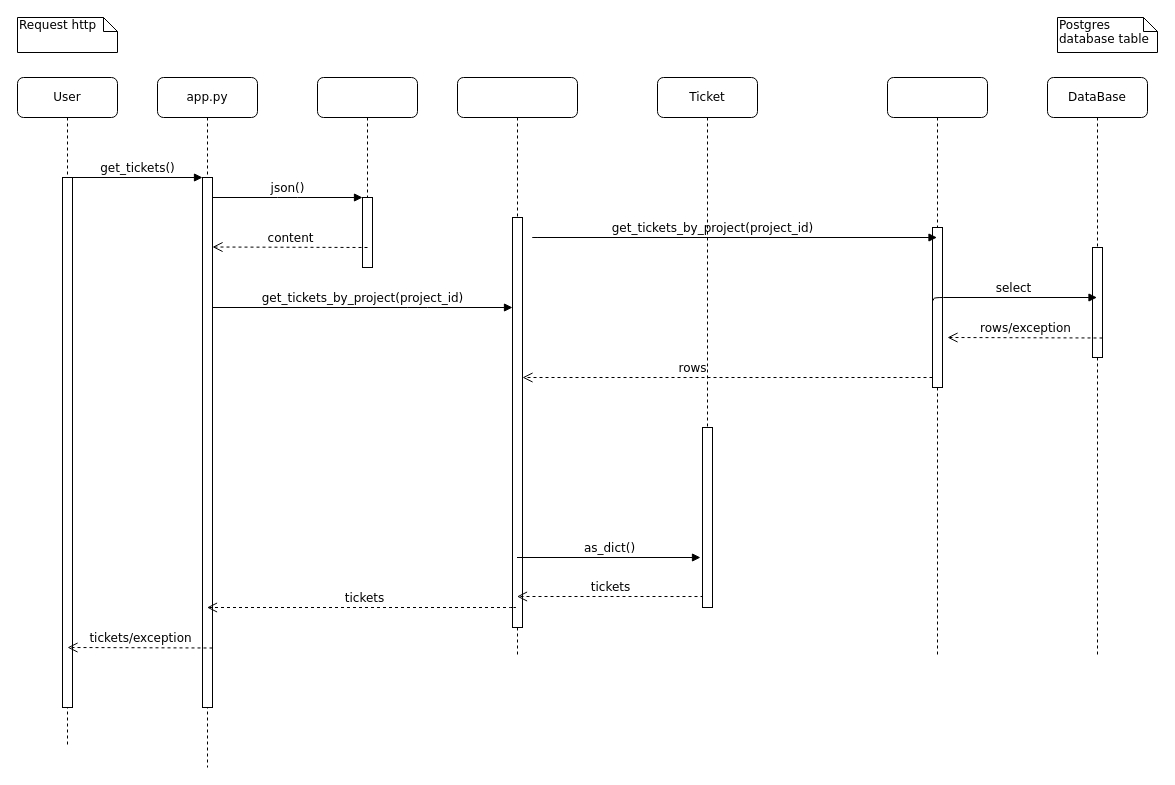
Image size: 1175x785. Some labels were removed from this diagram. The shapes that lost their labels are listed below. From the top down, each one's box as (x1, y1, x2, y2) in pixels, then its label:
(316, 76, 418, 268): Request
(456, 76, 578, 658): ticket_manager.py
(886, 76, 988, 658): db.py
